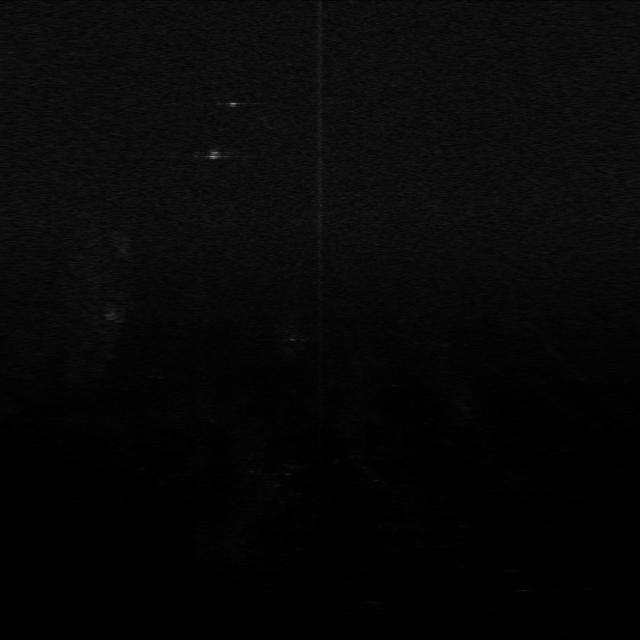rov: (202, 144, 227, 163)
